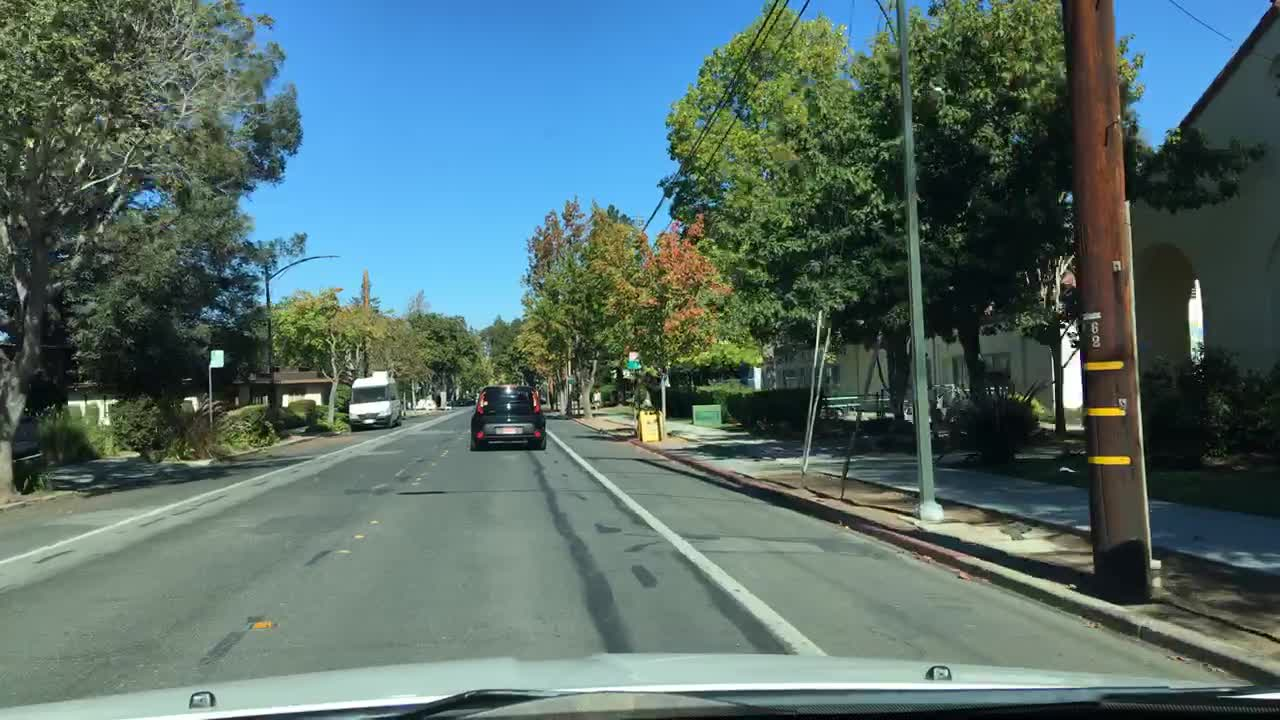car: (470, 383, 549, 451), (346, 366, 406, 433)
person: (589, 386, 605, 411)
traffic sign: (207, 348, 230, 370), (626, 350, 646, 370), (565, 372, 577, 386)
